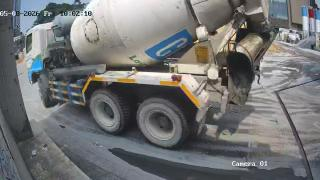cement_mixer_truck: (22, 0, 275, 148)
